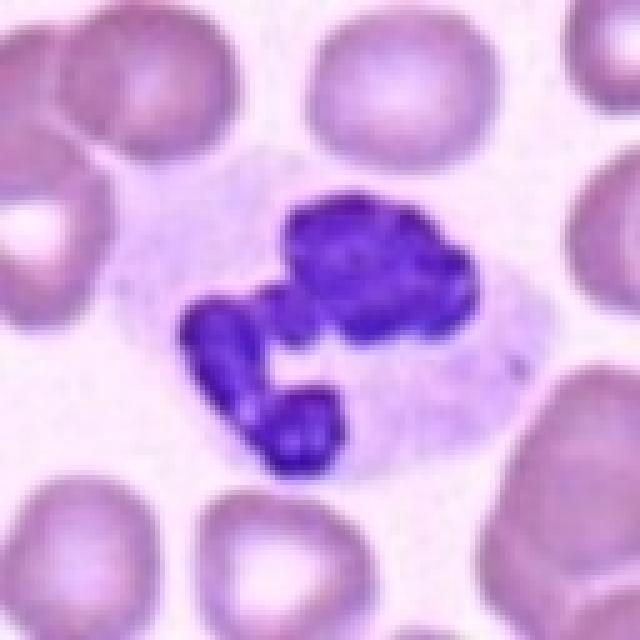neutro: (73, 70, 563, 466)
